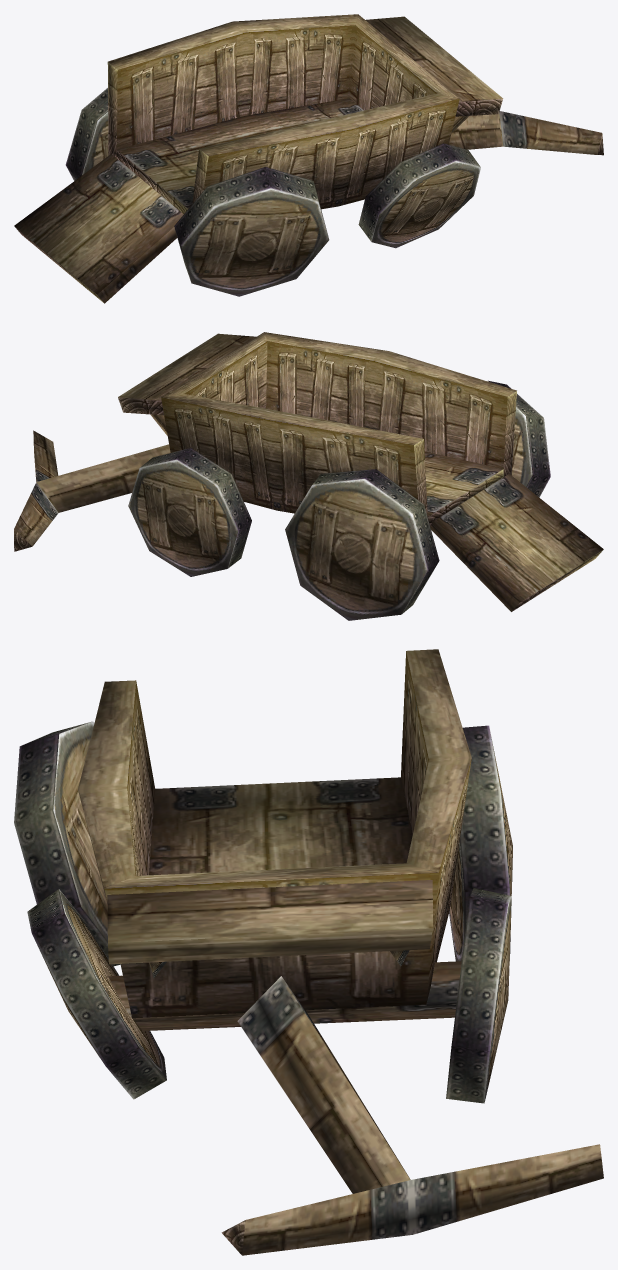
The model's file is CartStatic.glb.
The picture shows the model from 3 angles, top to bottom: view 1: azimuth 30°, elevation 25°; view 2: azimuth 150°, elevation 25°; view 3: azimuth 270°, elevation 25°; orthographic projection. The views are drawn at different scales.
Parts seen in each view (by area): view 1: Mesh_0; view 2: Mesh_0; view 3: Mesh_0.
Part boxes in pixels (left/top/right/bottom): Mesh_0: left=14, top=14, right=603, bottom=303; Mesh_0: left=14, top=332, right=603, bottom=620; Mesh_0: left=14, top=649, right=603, bottom=1255.
Bounding box in the file's own units: 9.12 × 2.8 × 5.29.
Materials: 1 (1 with a texture image).
